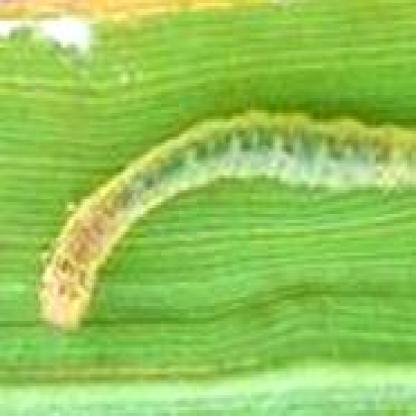leaf-folder: (30, 103, 416, 338)
